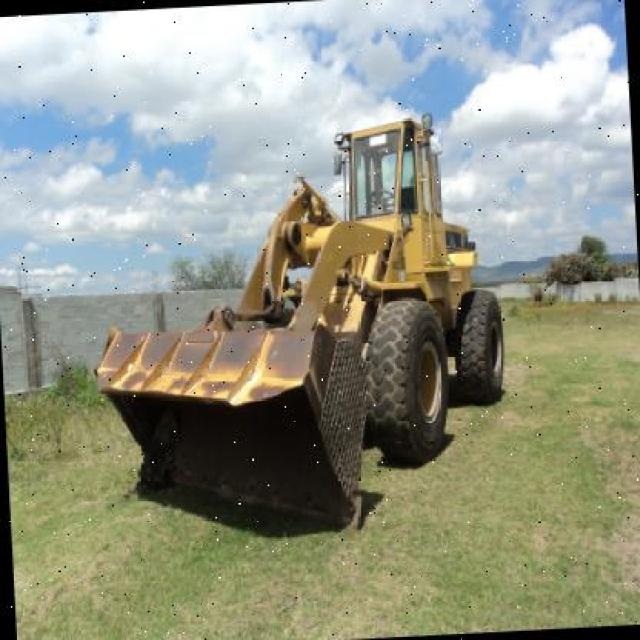buldozerpayloadergrader: (77, 105, 523, 550)
